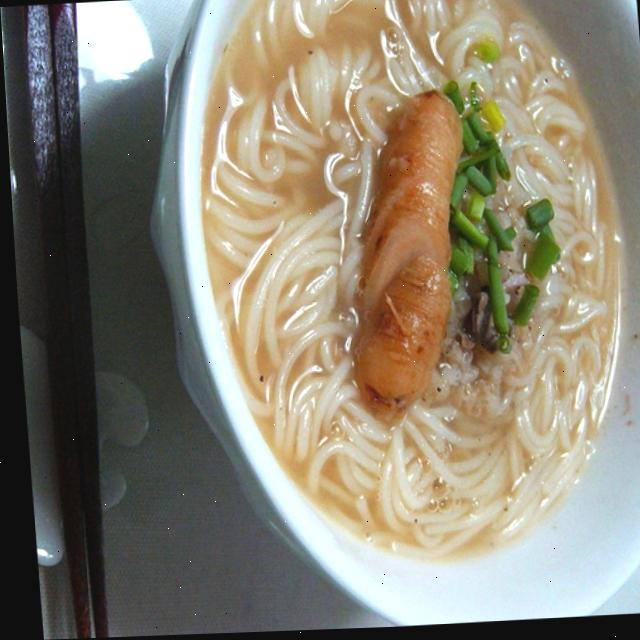面条主食: (117, 0, 640, 637)
